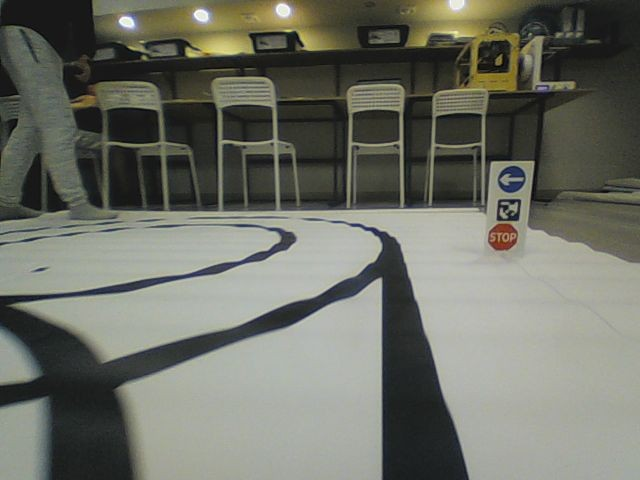Stop: (486, 222, 519, 252)
